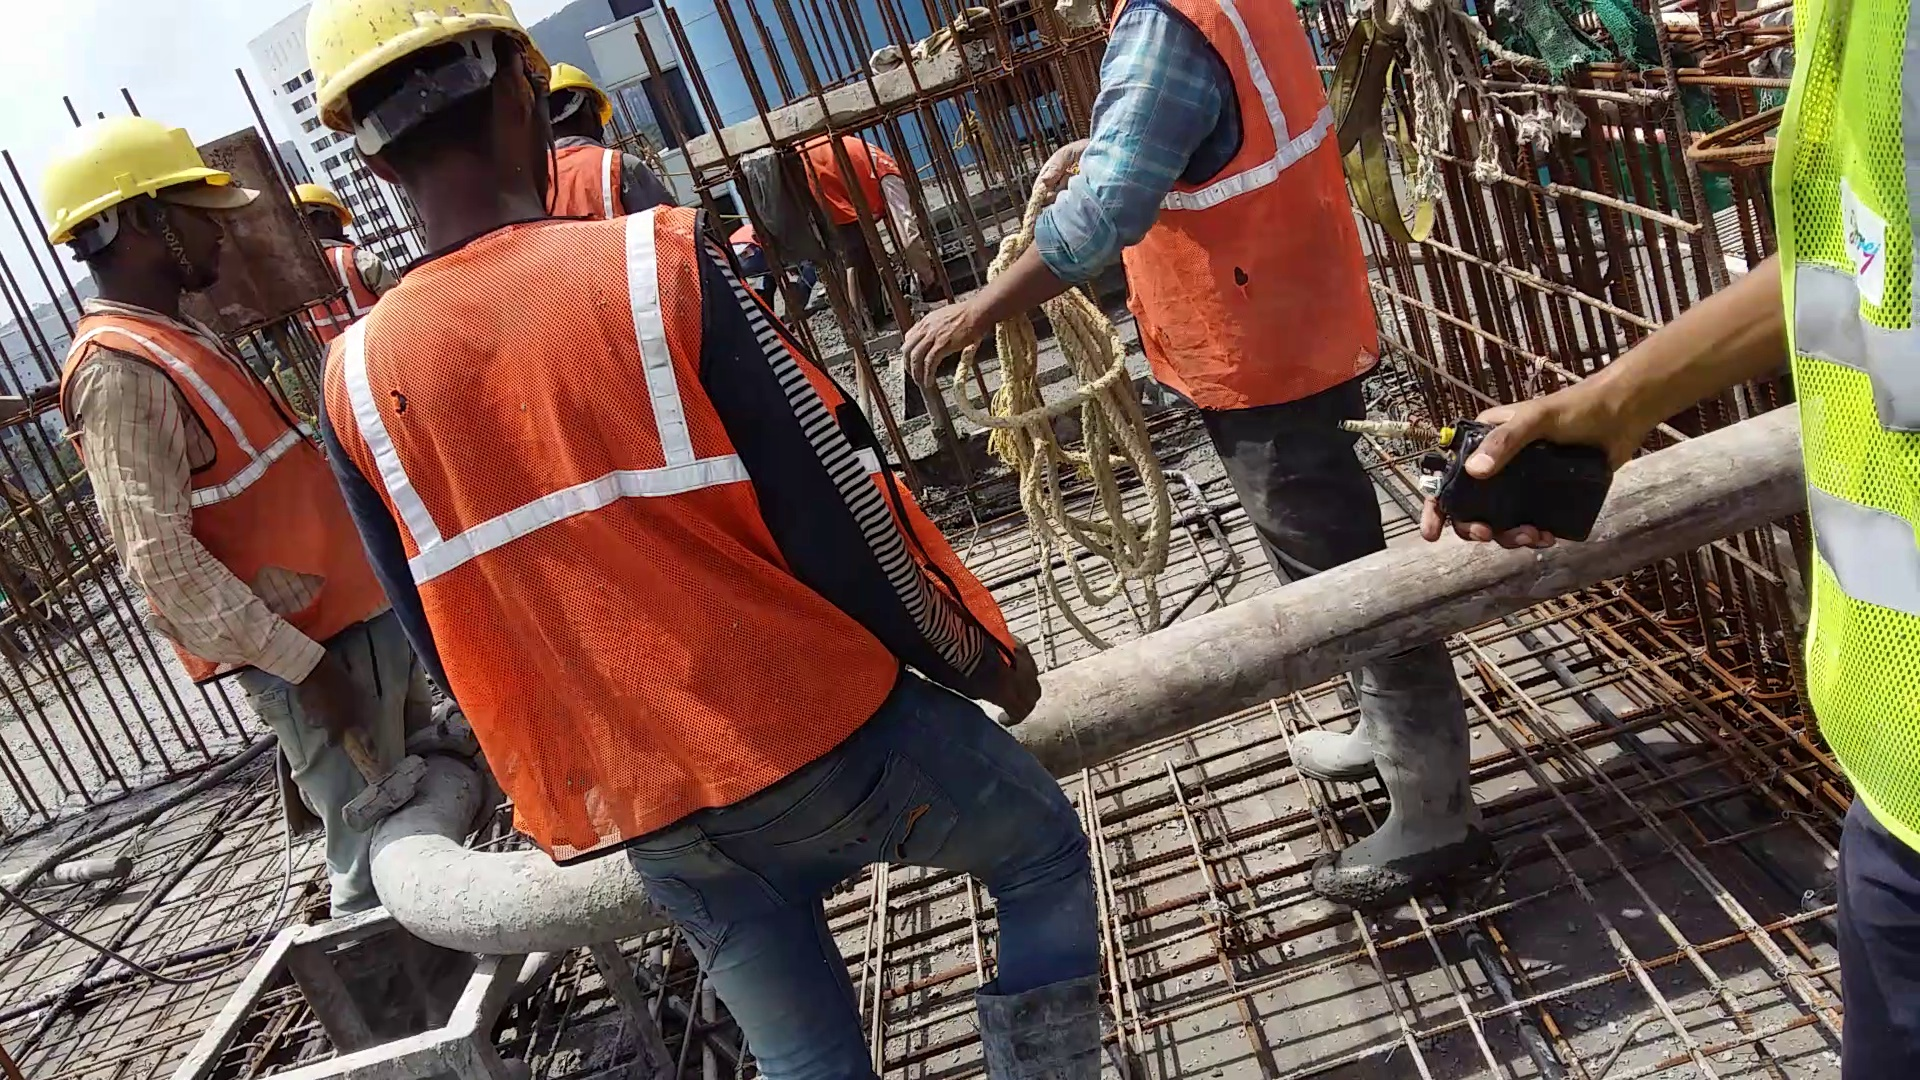SAFE: (307, 1, 694, 849), (55, 113, 323, 670)
